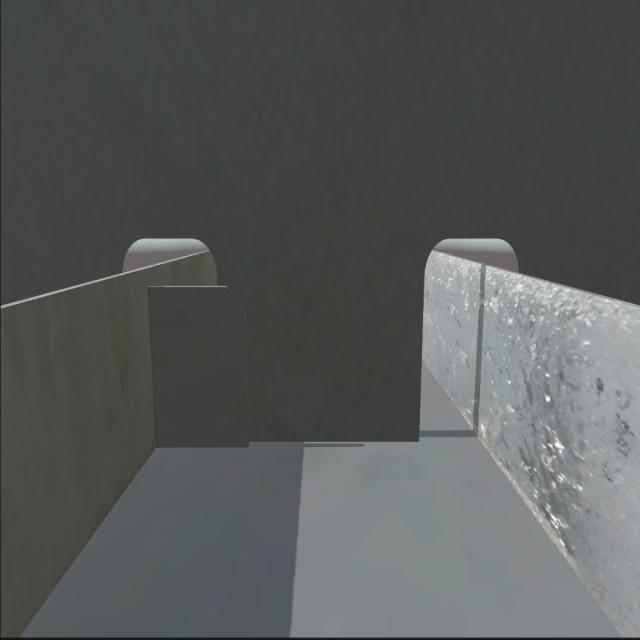fillet_yong_jeop_jang: (150, 436, 429, 451)
longi_yong_jeop_jang: (142, 281, 166, 462)
plate_CP03: (148, 282, 246, 450)
